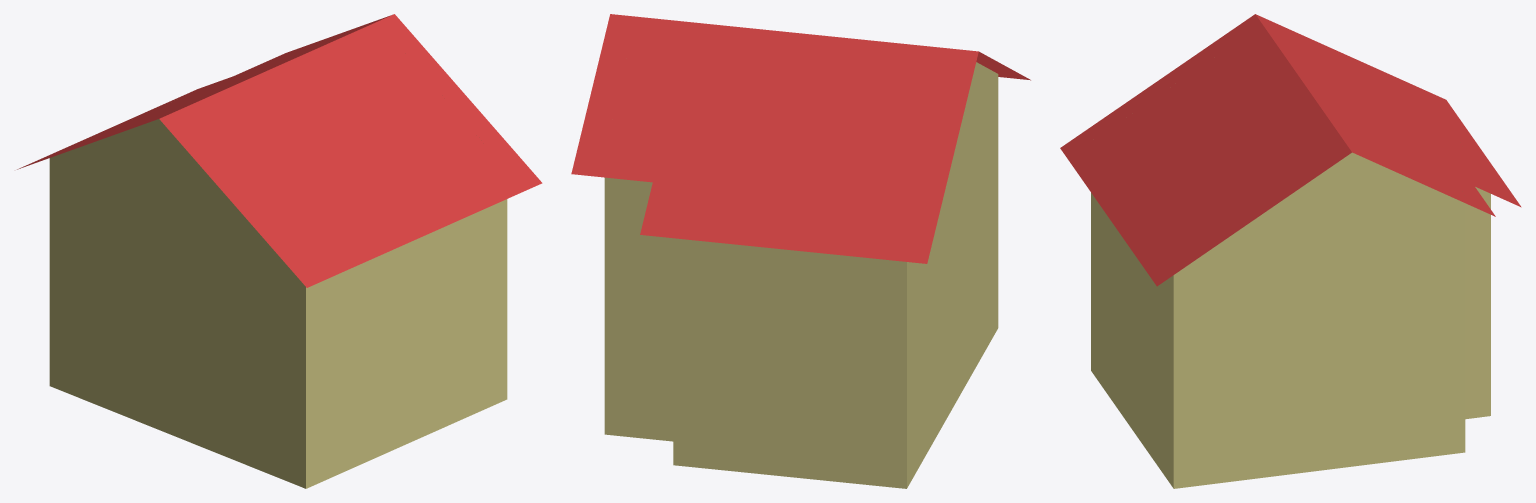
The picture shows the model from 3 angles, left to right: view 1: azimuth 30°, elevation 25°; view 2: azimuth 150°, elevation 25°; view 3: azimuth 270°, elevation 25°; orthographic projection. The views are drawn at different scales.
Bounding box in the file's own units: 13.33 × 13.93 × 10.82.
